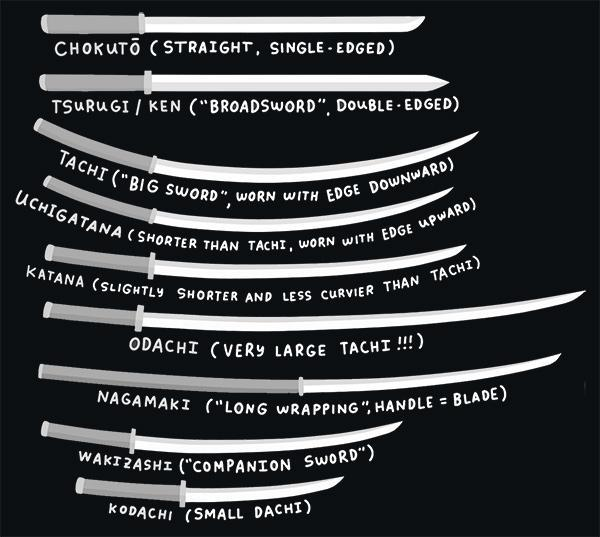espada: (28, 106, 499, 184), (36, 347, 574, 400), (37, 291, 600, 336), (24, 189, 492, 238), (27, 406, 410, 460), (34, 240, 485, 284), (32, 57, 464, 100), (37, 3, 443, 44), (62, 472, 379, 511)
